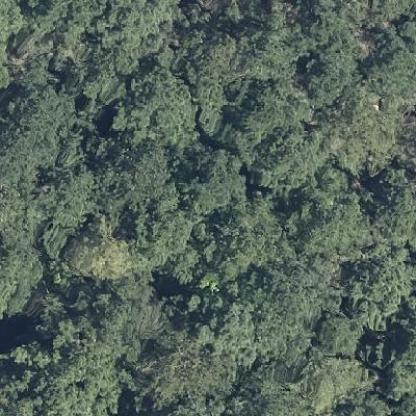tree-top: (174, 140, 248, 214), (61, 220, 138, 282)
